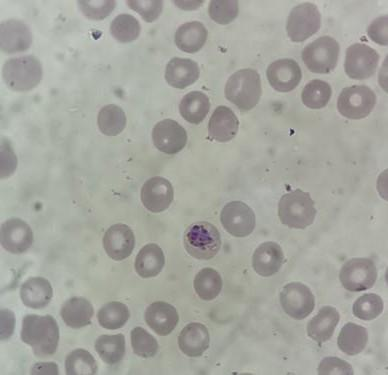Infected: (183, 221, 221, 259)
Uninfected: (21, 312, 61, 354), (224, 69, 262, 111), (277, 190, 316, 229), (2, 55, 42, 92), (302, 36, 339, 74), (220, 199, 256, 237), (336, 84, 375, 119), (286, 3, 321, 42), (139, 176, 175, 213), (249, 241, 285, 277), (151, 119, 187, 155), (339, 258, 376, 293), (343, 42, 378, 79), (279, 282, 314, 318), (266, 58, 302, 92), (207, 106, 240, 142), (144, 301, 178, 335), (102, 224, 135, 259), (0, 218, 32, 253), (306, 307, 338, 342), (20, 276, 53, 309), (0, 19, 32, 53), (164, 57, 199, 88), (178, 322, 209, 356), (59, 296, 93, 327), (134, 244, 165, 277), (174, 21, 207, 52), (336, 322, 367, 355), (179, 91, 210, 123), (94, 333, 125, 365), (301, 79, 332, 110), (96, 104, 126, 136), (110, 13, 142, 43), (193, 268, 222, 300), (97, 301, 129, 330), (130, 326, 159, 357), (352, 293, 382, 321), (207, 299, 239, 324), (208, 1, 240, 25), (65, 350, 96, 374), (128, 0, 161, 22), (78, 0, 113, 20), (367, 15, 388, 46), (319, 357, 351, 374)
